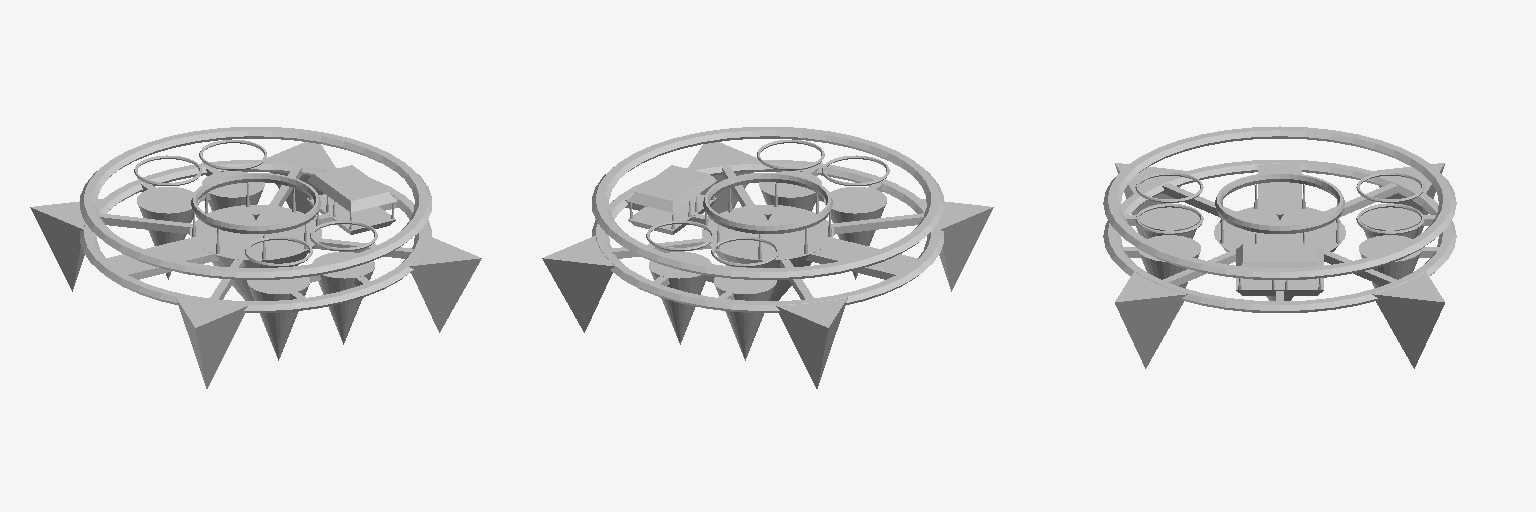
The model's file is key.obj.
3 views of the same model, side by side, from view 1: azimuth 30°, elevation 25°; view 2: azimuth 150°, elevation 25°; view 3: azimuth 270°, elevation 25° (orthographic).
Visible parts, largest first — view 1: Torus1, Torus, Cone5, Cone3, Cone4, Cone1, Torus3, Box13, Cone7, Cone8, Cone9, Box4 (+8 smaller); view 2: Torus1, Torus, Cone5, Cone2, Cone1, Cone4, Torus3, Box13, Cone8, Cone7, Cone6, Box4 (+8 smaller); view 3: Torus1, Torus, Cone2, Cone3, Cone5, Torus3, Box13, Box4, Cone6, Cone9, Cone7, Cone8 (+11 smaller).
Part boxes in pixels (x1,y1,x2,y2): Torus1: (80,127,431,279); Torus: (80,160,431,312); Cone5: (190,205,321,300); Cone3: (408,236,481,332); Cone4: (176,297,248,388); Cone1: (30,199,102,291); Torus3: (191,173,320,233); Box13: (307,165,396,212); Cone7: (137,187,199,279); Cone8: (247,277,309,360); Cone9: (312,252,374,344); Box4: (106,238,218,279); Torus1: (592,127,943,279); Torus: (592,160,943,312); Cone5: (702,205,833,300); Cone2: (542,236,615,332); Cone1: (775,297,847,388); Cone4: (921,199,993,291); Torus3: (703,173,832,233); Box13: (627,165,716,212); Cone8: (824,187,886,279); Cone7: (714,277,776,360); Cone6: (649,252,711,344); Box4: (805,238,917,279); Torus1: (1103,126,1456,279); Torus: (1103,160,1456,312); Cone2: (1372,271,1444,368); Cone3: (1115,271,1187,368); Cone5: (1214,205,1345,300); Torus3: (1215,172,1344,233); Box13: (1236,244,1323,267); Box4: (1258,164,1301,205); Cone6: (1359,235,1421,288); Cone9: (1138,235,1200,288); Cone7: (1360,203,1420,238); Cone8: (1139,203,1199,238).
Bounding box in the file's own units: 40 × 14.17 × 40.